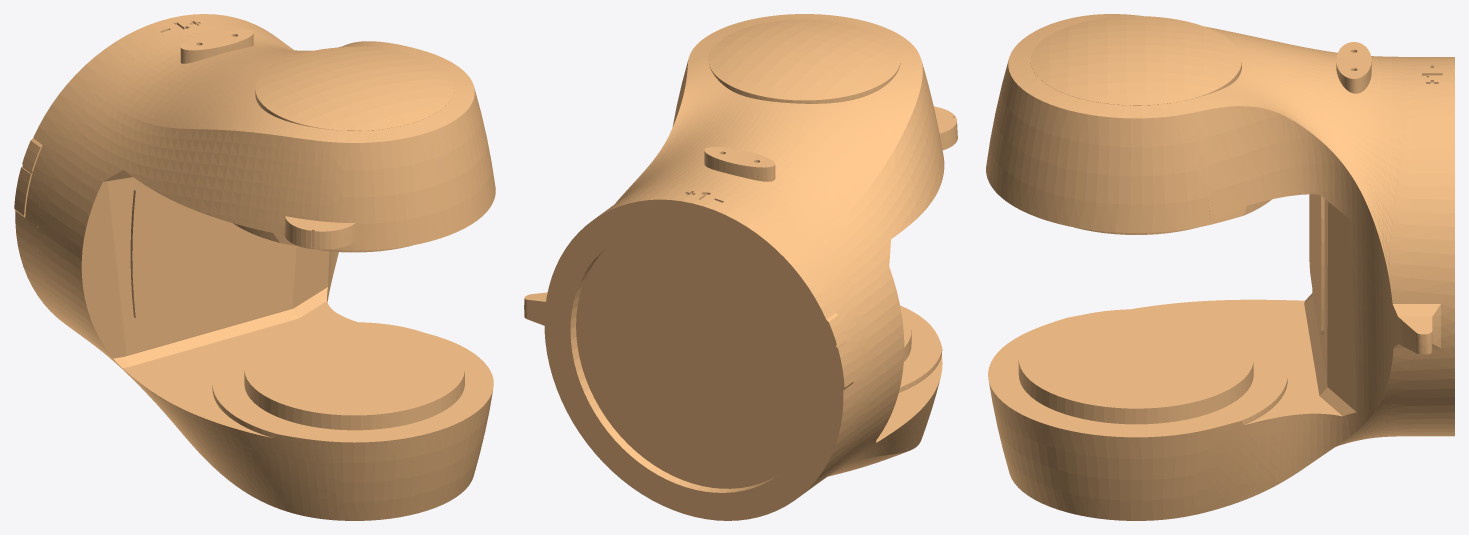
The model's file is KukaKR4Link1.dae.
3 views of the same model, side by side, from view 1: azimuth 30°, elevation 25°; view 2: azimuth 150°, elevation 25°; view 3: azimuth 270°, elevation 25° (orthographic). The views are drawn at different scales.
Visible parts, largest first — view 1: KR4Link1; view 2: KR4Link1; view 3: KR4Link1.
Boxes of the visible parts, x1=… form: KR4Link1: x1=14, y1=14, x2=495, y2=520; KR4Link1: x1=524, y1=14, x2=957, y2=520; KR4Link1: x1=986, y1=14, x2=1454, y2=520.
Size of the model in its own units: 0.1214 by 0.1346 by 0.1379.
